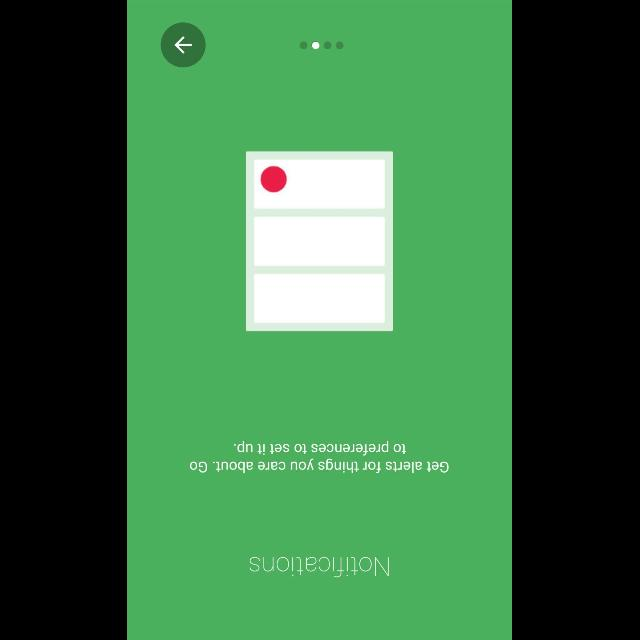button: (161, 22, 207, 68)
image: (246, 151, 394, 331)
pageindicator: (300, 40, 344, 50)
text: (190, 440, 450, 474), (250, 556, 390, 578)
